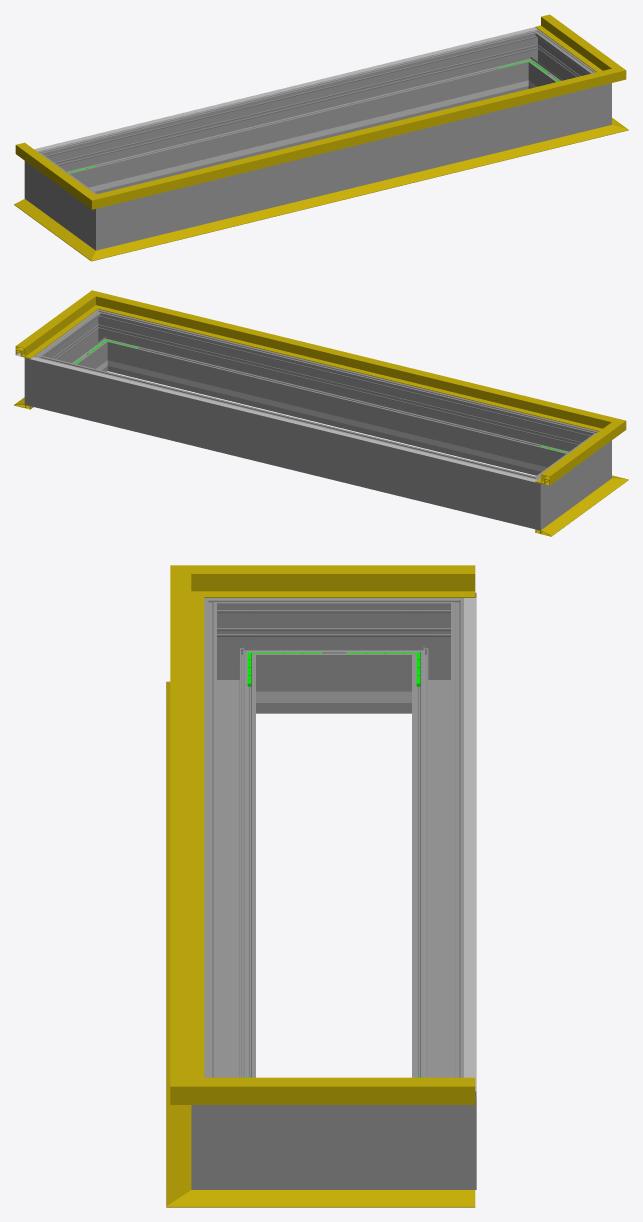
3 renders of one model, top to bottom at view 1: azimuth 30°, elevation 25°; view 2: azimuth 150°, elevation 25°; view 3: azimuth 270°, elevation 25°, orthographic. The views are drawn at different scales.
Parts seen in each view (by area): view 1: 3DGeom-276, 3DGeom-298, 3DGeom-123, 3DGeom-28, 3DGeom-244, 3DGeom-270, 3DGeom-220, 3DGeom-284, 3DGeom-290, 3DGeom-128, 3DGeom-268, 3DGeom-297 (+7 smaller); view 2: 3DGeom-298, 3DGeom-276, 3DGeom-123, 3DGeom-278, 3DGeom-239, 3DGeom-220, 3DGeom-284, 3DGeom-290, 3DGeom-128, 3DGeom-297, 3DGeom-268, 3DGeom-118 (+4 smaller); view 3: 3DGeom-298, 3DGeom-276, 3DGeom-123, 3DGeom-268, 3DGeom-297, 3DGeom-118, 3DGeom-284, 3DGeom-290, 3DGeom-128, 3DGeom-220, 3DGeom-278, 3DGeom-270 (+7 smaller).
Part boxes in pixels (x1,y1,x2,y2): 3DGeom-276: [61, 36, 522, 193]; 3DGeom-298: [129, 91, 578, 242]; 3DGeom-123: [120, 74, 592, 201]; 3DGeom-28: [119, 130, 595, 253]; 3DGeom-244: [101, 88, 496, 189]; 3DGeom-270: [76, 187, 129, 250]; 3DGeom-220: [34, 27, 537, 151]; 3DGeom-284: [510, 29, 554, 90]; 3DGeom-290: [578, 65, 611, 132]; 3DGeom-128: [535, 14, 605, 68]; 3DGeom-268: [44, 163, 86, 235]; 3DGeom-297: [532, 41, 586, 86]; 3DGeom-298: [113, 316, 574, 475]; 3DGeom-276: [58, 361, 512, 522]; 3DGeom-123: [117, 298, 592, 427]; 3DGeom-278: [507, 467, 559, 530]; 3DGeom-239: [140, 368, 535, 469]; 3DGeom-220: [30, 357, 536, 482]; 3DGeom-284: [24, 345, 64, 412]; 3DGeom-290: [82, 309, 126, 372]; 3DGeom-128: [15, 304, 86, 358]; 3DGeom-297: [49, 321, 104, 370]; 3DGeom-268: [549, 443, 592, 515]; 3DGeom-118: [535, 432, 606, 485]; 3DGeom-298: [204, 625, 255, 1077]; 3DGeom-276: [412, 625, 463, 1077]; 3DGeom-123: [170, 598, 204, 1071]; 3DGeom-268: [269, 598, 398, 713]; 3DGeom-297: [269, 1105, 398, 1189]; 3DGeom-118: [248, 565, 475, 597]; 3DGeom-284: [399, 1063, 476, 1189]; 3DGeom-290: [191, 1063, 268, 1189]; 3DGeom-128: [248, 1077, 475, 1104]; 3DGeom-220: [464, 597, 476, 1091]; 3DGeom-278: [399, 592, 476, 713]; 3DGeom-270: [204, 598, 268, 713].
Bounding box in the file's own units: 2.44 × 0.2596 × 0.6096.
